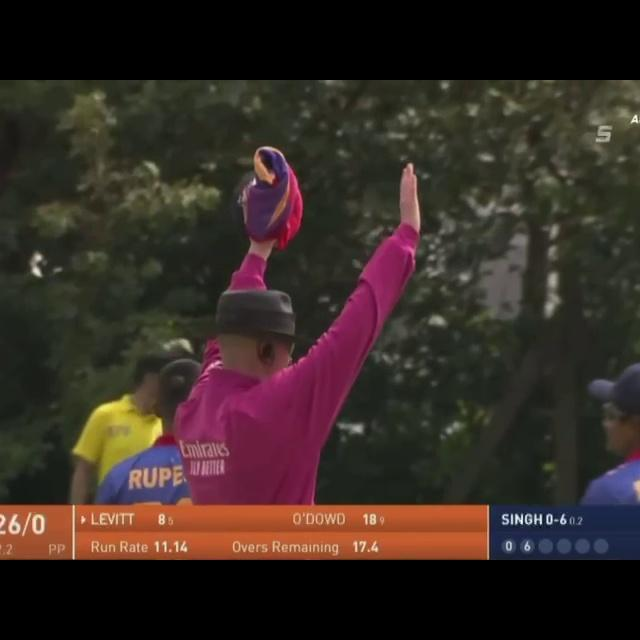umpire: (95, 114, 436, 494)
